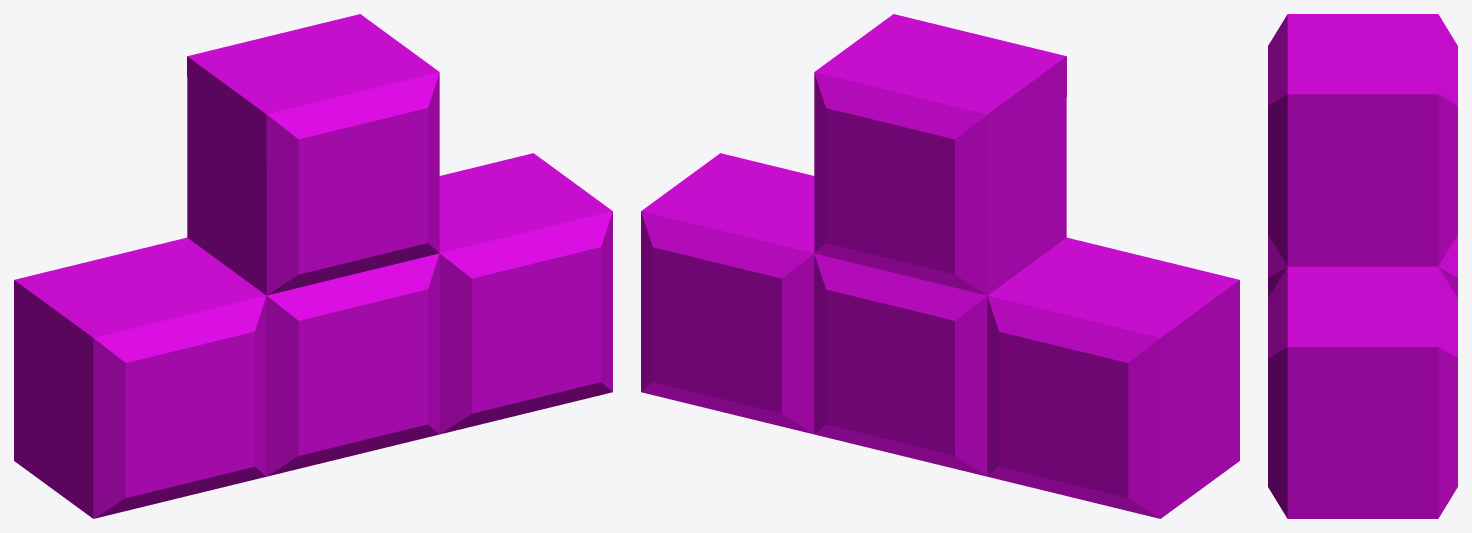
File: TMino.fbx
3 renders of one model, left to right at view 1: azimuth 30°, elevation 25°; view 2: azimuth 150°, elevation 25°; view 3: azimuth 270°, elevation 25°, orthographic. The views are drawn at different scales.
Visible parts, largest first — view 1: Cube.003; view 2: Cube.003; view 3: Cube.003.
Part boxes in pixels (x1,y1,x2,y2): Cube.003: (14,14,612,518); Cube.003: (641,14,1239,518); Cube.003: (1268,14,1457,518).
Size of the model in its own units: 300 by 200 by 100.
